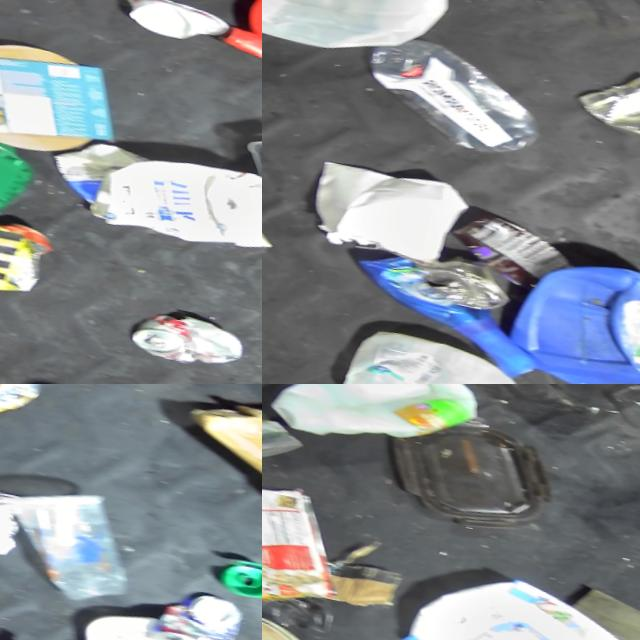can: (139, 303, 256, 372), (143, 575, 254, 640), (571, 59, 640, 151), (0, 213, 56, 298), (0, 384, 55, 419)
milk_jug: (387, 553, 640, 640), (262, 384, 489, 462), (115, 153, 262, 261), (262, 0, 462, 70), (335, 322, 545, 384)
non_white_jug: (502, 245, 640, 384), (262, 462, 365, 621)
